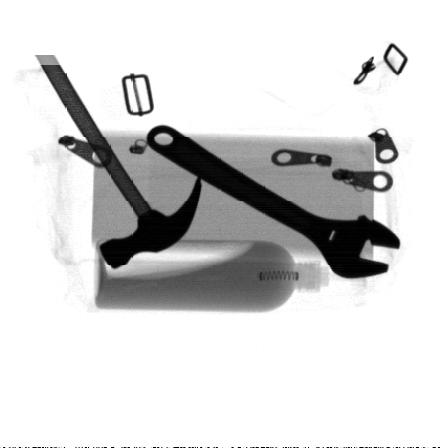Hammer: (31, 46, 203, 270)
Wrench: (149, 125, 403, 280)
